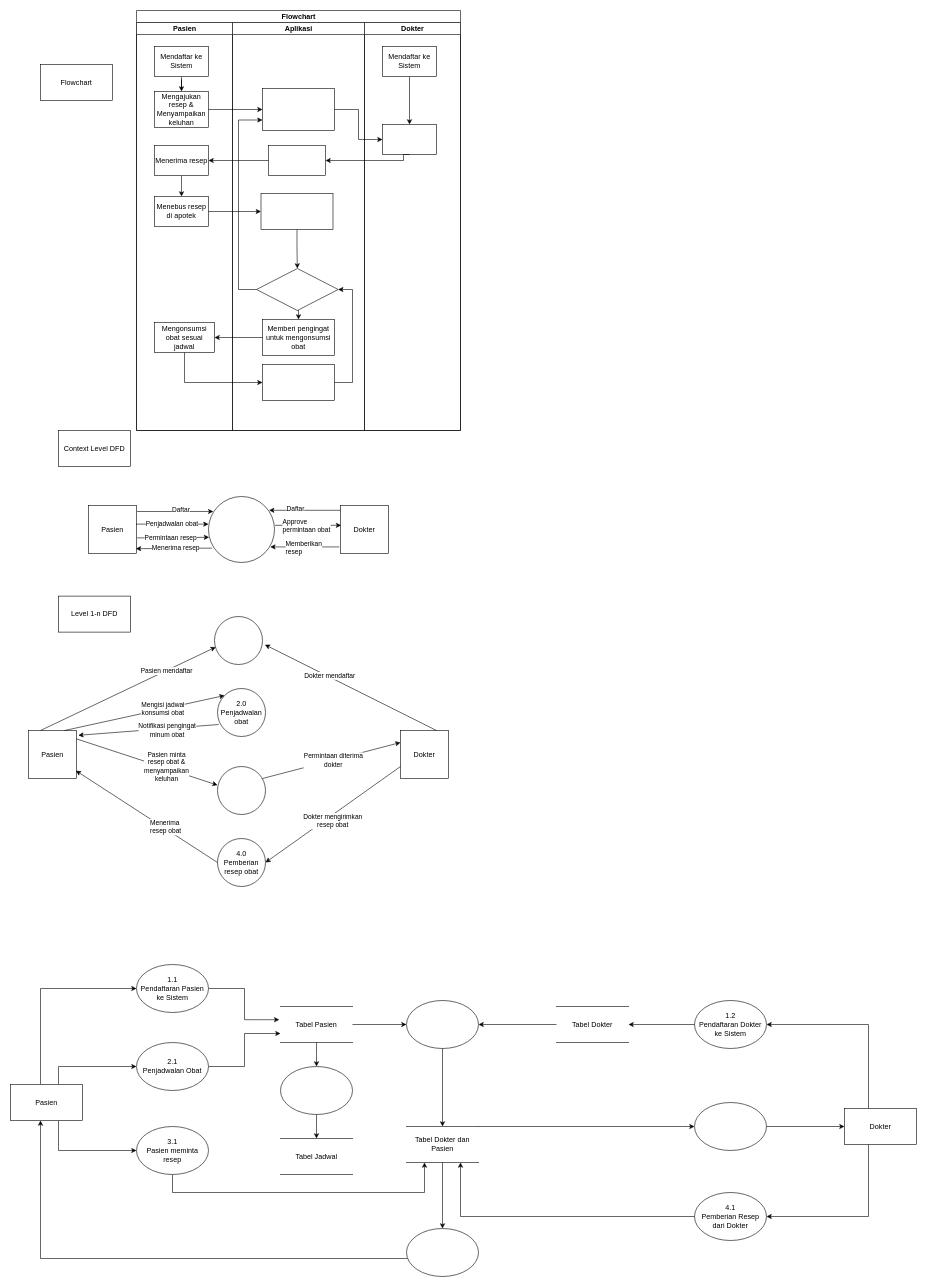
Image size: 927x1287. Some labels were removed from this diagram. The shapes that lost their labels are listed below. From the top down, each one's box as (x1, y1, x2, y2) in pixels, then its label:
(262, 88, 334, 130): Mengirimkan pengajuan resep ke akun dokter
(382, 124, 436, 154): Menyetujui & memberikan resep pasien
(268, 145, 326, 176): Mengirimkan resep ke akun pasien
(260, 193, 333, 230): Menambah jumlah stok obat pasien
(256, 268, 338, 310): Stok obat pasien habis
(262, 364, 334, 400): Mengurangi stok obat dalam aplikasi
(208, 496, 274, 562): 0.0 Sistem Penjadwalan Obat
(214, 616, 262, 664): 1.0 Daftar ke sistem
(217, 766, 266, 814): 3.0 Permintaan resep obat
(406, 1000, 478, 1048): 1.3 Disimpan dalam Table Dokter dan Pasien
(280, 1066, 352, 1114): 2.2 Meminta Jadwal
(694, 1102, 766, 1150): 3.2 Permintaan resep kepada Dokter
(406, 1228, 478, 1276): 4.2 Pemberian resep kepada Pasien
